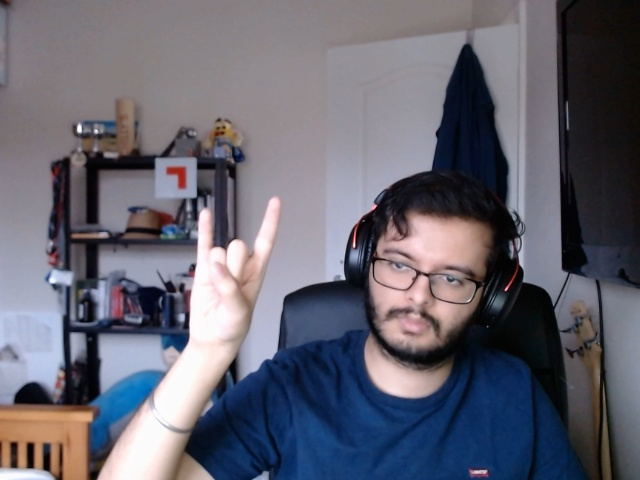Rock on: (153, 182, 292, 353)
